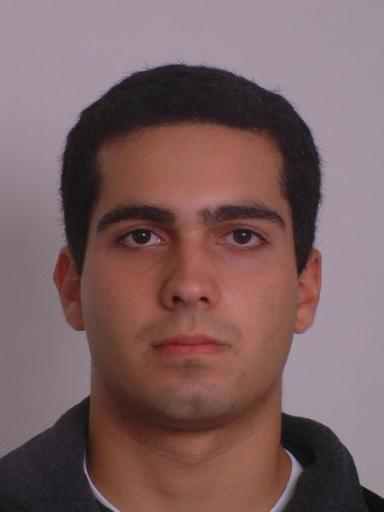left_eye: (218, 226, 270, 251)
left_lip_corner: (222, 340, 236, 354)
right_eye: (114, 228, 169, 253)
right_lip_corner: (147, 340, 161, 357)
